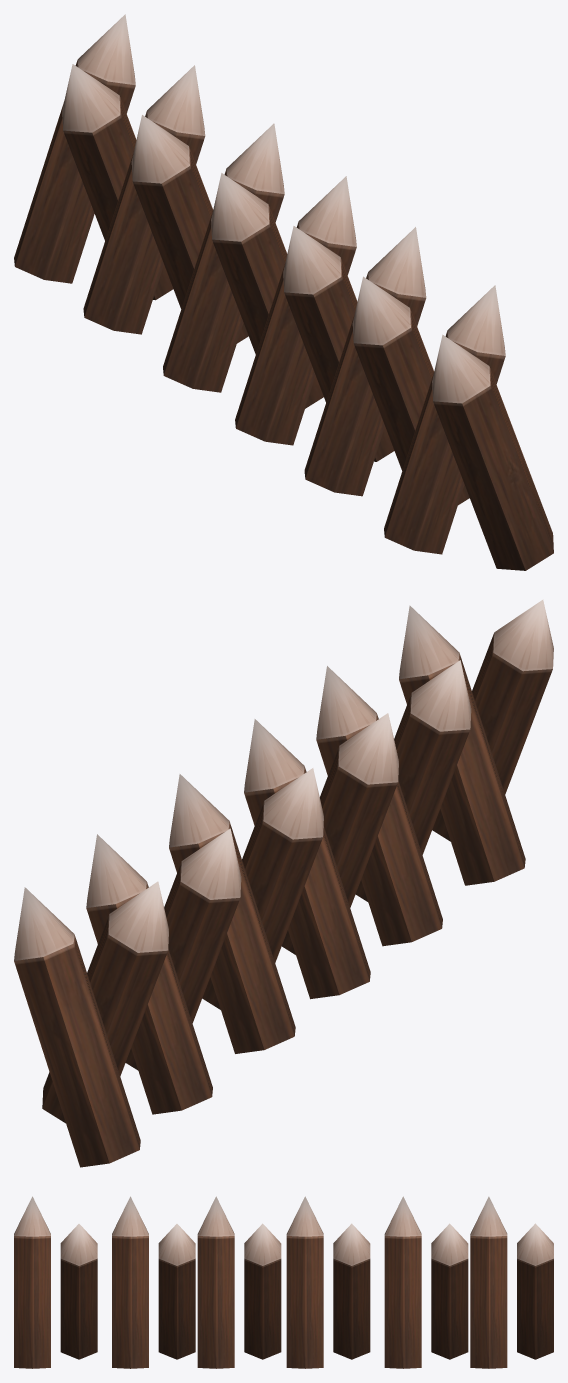
Rendered from barrier.fbx.
3 views of the same model, one above another, from view 1: azimuth 30°, elevation 25°; view 2: azimuth 150°, elevation 25°; view 3: azimuth 270°, elevation 25° (orthographic). The views are drawn at different scales.
Parts seen in each view (by area): view 1: pCube13; view 2: pCube13; view 3: pCube13.
Part boxes in pixels (<box>): pCube13: <box>14,14,553,570</box>; pCube13: <box>14,599,553,1167</box>; pCube13: <box>14,1196,553,1368</box>.
Bounding box in the file's own units: 0.8414 × 1.52 × 4.88.
